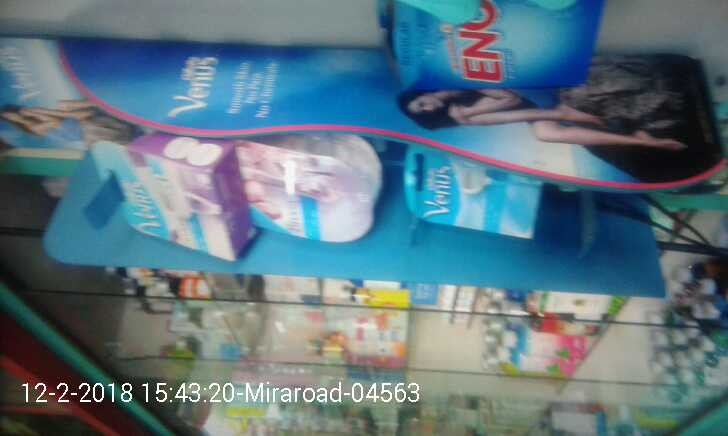venus: (95, 139, 243, 253), (408, 141, 544, 248)
